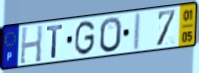7: (157, 8, 178, 48)
G: (73, 19, 96, 57)
H: (19, 24, 44, 65)
I: (132, 11, 143, 53)
O: (99, 16, 123, 54)
T: (45, 23, 65, 60)
